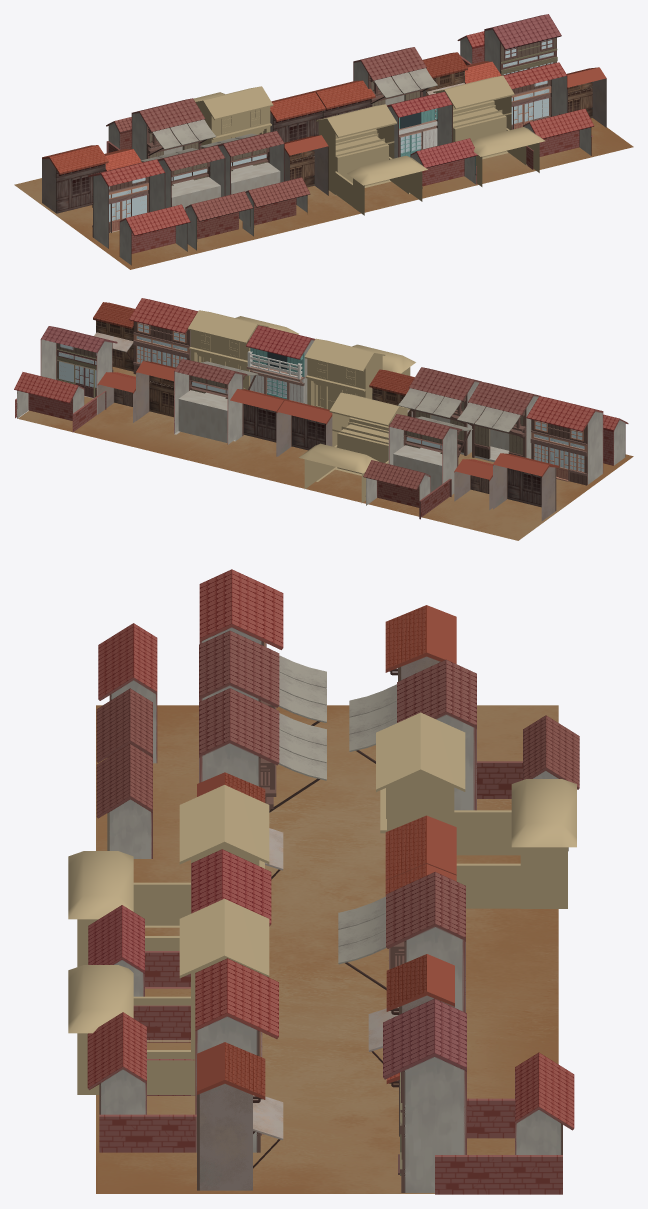
3 views of the same model, one above another, from view 1: azimuth 30°, elevation 25°; view 2: azimuth 150°, elevation 25°; view 3: azimuth 270°, elevation 25° (orthographic). The views are drawn at different scales.
Parts seen in each view (by area): view 1: Box001, Box009, Shop003, Shop002, Box008, Shop, B005, B003, Restaurant001, Shop001, A003, Box006 (+12 smaller); view 2: Box001, Shop, Box006, B005, Shop001, Box009, Shop003, A003, B003, B1, Box008, Shop002 (+10 smaller); view 3: Box001, Box006, Shop002, Box009, Box008, Shop, B004, B003, Shop003, Pharmacy002, Shop001, B2 (+9 smaller).
Boxes of the visible parts, <box> form: Box001: <box>14,118,633,269</box>; Box009: <box>316,104,427,215</box>; Shop003: <box>140,145,252,250</box>; Shop002: <box>200,131,310,236</box>; Box008: <box>433,75,545,186</box>; Shop: <box>106,98,216,160</box>; B005: <box>88,159,165,248</box>; B003: <box>484,14,561,75</box>; Restaurant001: <box>42,145,108,213</box>; Shop001: <box>353,47,437,106</box>; A003: <box>387,92,452,158</box>; Box006: <box>193,86,273,148</box>; Box001: <box>18,367,633,540</box>; Shop: <box>363,414,472,519</box>; Box006: <box>299,392,410,503</box>; B005: <box>526,396,603,485</box>; Shop001: <box>174,359,258,444</box>; Box009: <box>304,338,415,409</box>; Shop003: <box>457,381,540,461</box>; A003: <box>246,325,315,404</box>; B003: <box>40,326,117,414</box>; B1: <box>129,298,197,374</box>; Box008: <box>188,310,298,389</box>; Shop002: <box>398,367,481,455</box>; Box001: <box>96,705,558,1193</box>; Box006: <box>376,712,576,908</box>; Shop002: <box>96,688,326,858</box>; Box009: <box>68,785,269,966</box>; Box008: <box>68,898,269,1095</box>; Shop: <box>349,659,579,851</box>; B004: <box>435,1052,574,1194</box>; B003: <box>383,998,466,1192</box>; Shop003: <box>96,630,326,762</box>; Pharmacy002: <box>197,1042,283,1190</box>; Shop001: <box>338,872,465,1012</box>; B2: <box>87,1012,196,1152</box>.
Size of the model in its own units: 30.11 by 4.47 by 13.27.
